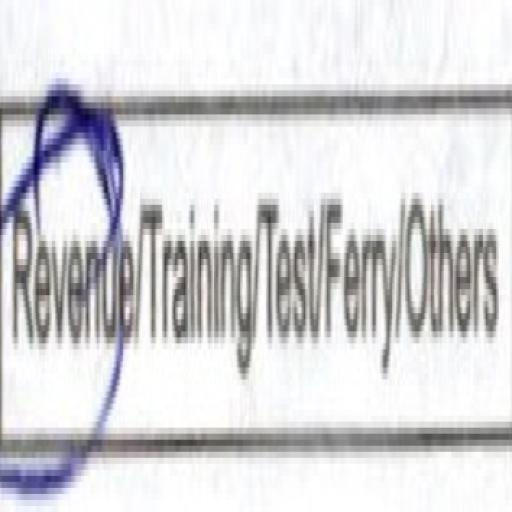check: (0, 8, 140, 511)
